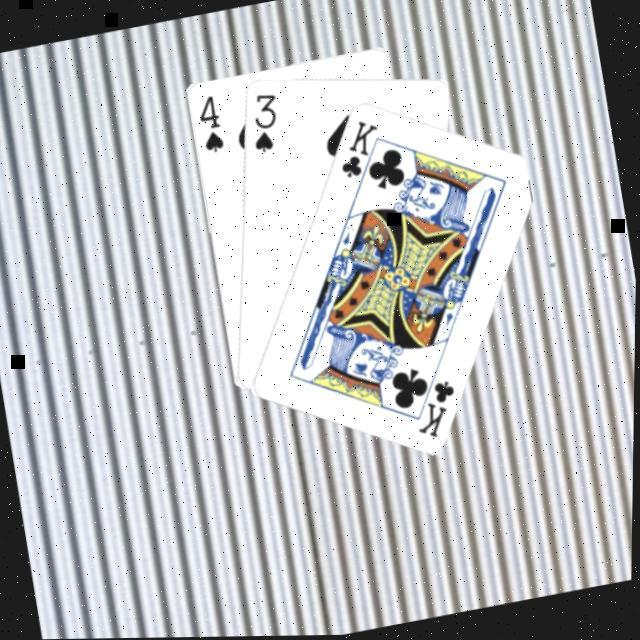3S: (243, 85, 289, 155)
4S: (193, 88, 230, 154)
KC: (405, 360, 468, 443), (331, 112, 392, 192)
